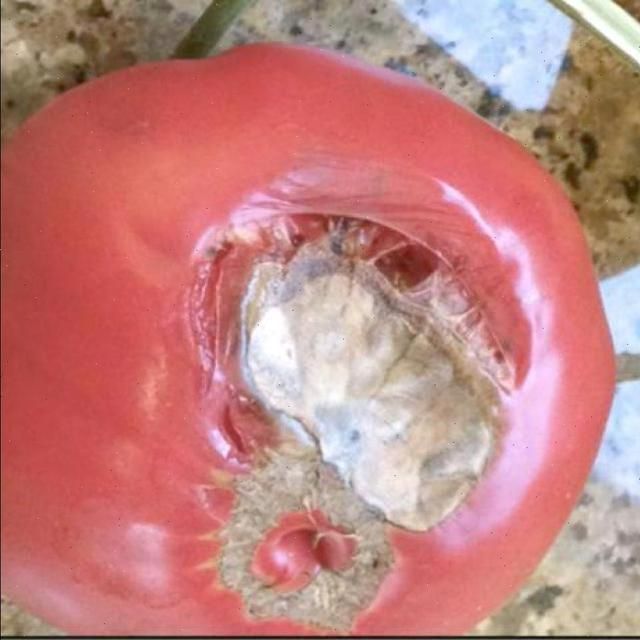Blossom End Rot Fruit: (130, 116, 351, 422)
